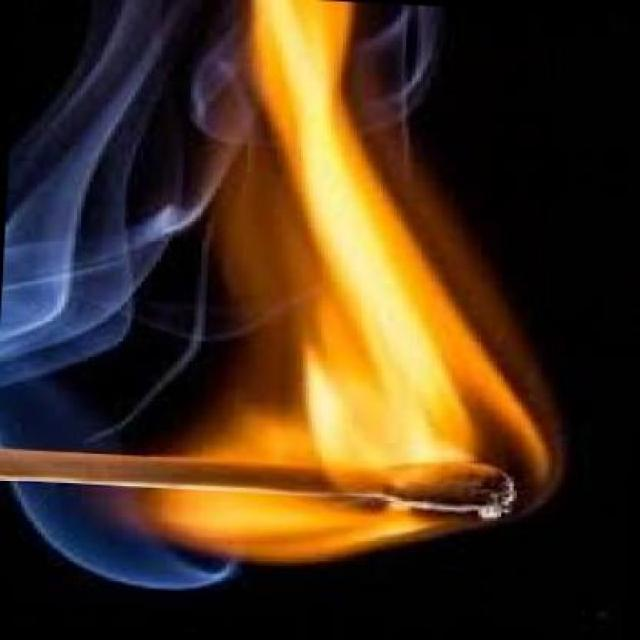Fire: (161, 8, 585, 560)
Smoke: (5, 6, 184, 616)
